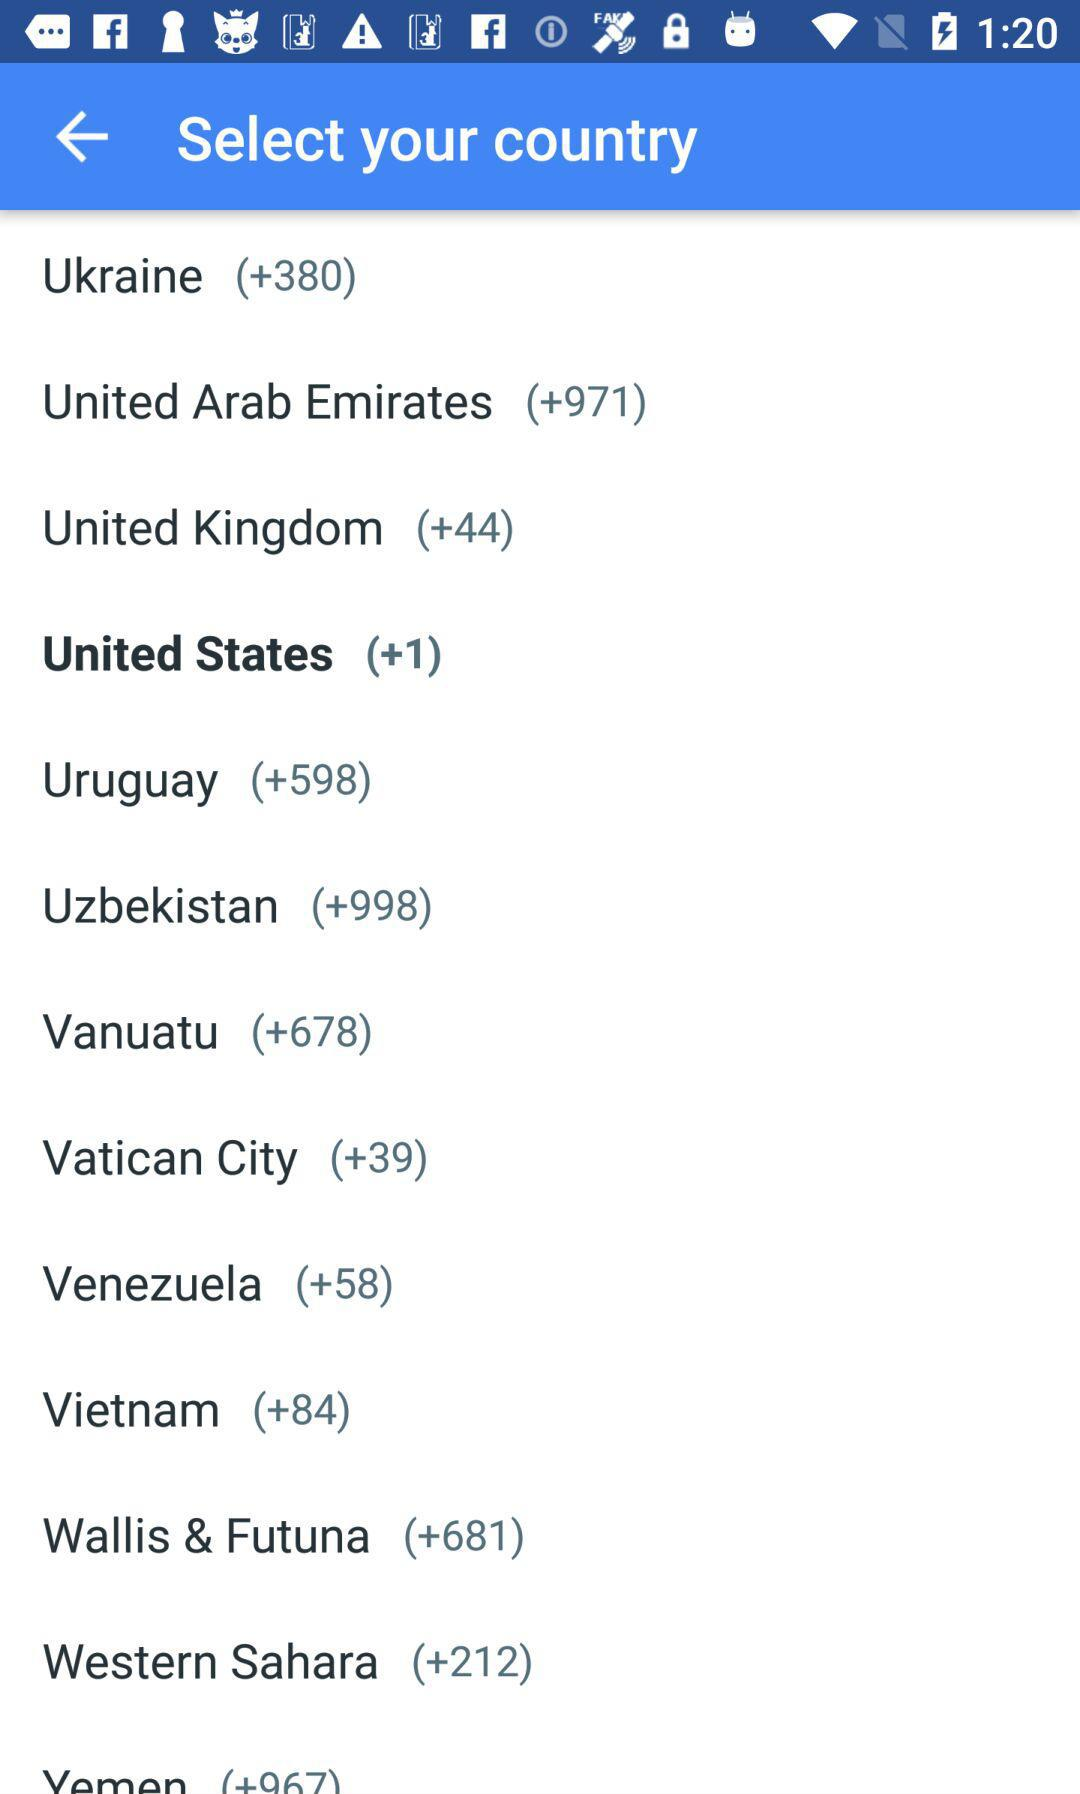Icon: (56, 111, 110, 167)
Text: (178, 114, 700, 176), (45, 381, 493, 422), (45, 507, 383, 557), (44, 1642, 379, 1681), (44, 1515, 370, 1554), (44, 1138, 300, 1187), (44, 634, 334, 674), (45, 885, 278, 926), (44, 1263, 263, 1303), (45, 761, 220, 809), (44, 1392, 220, 1429), (42, 1014, 218, 1051), (45, 256, 204, 295), (405, 1515, 525, 1561), (313, 885, 432, 932), (252, 760, 372, 806), (527, 381, 646, 427), (238, 256, 357, 302), (413, 1642, 532, 1686), (252, 1012, 372, 1057), (254, 1389, 350, 1435), (297, 1263, 393, 1310), (418, 507, 514, 554), (332, 1138, 428, 1183), (42, 1768, 187, 1794), (366, 634, 442, 679), (222, 1767, 341, 1794)
Toolbar: (3, 65, 1080, 211)
UpperTaskBar: (1, 1, 1080, 64)
